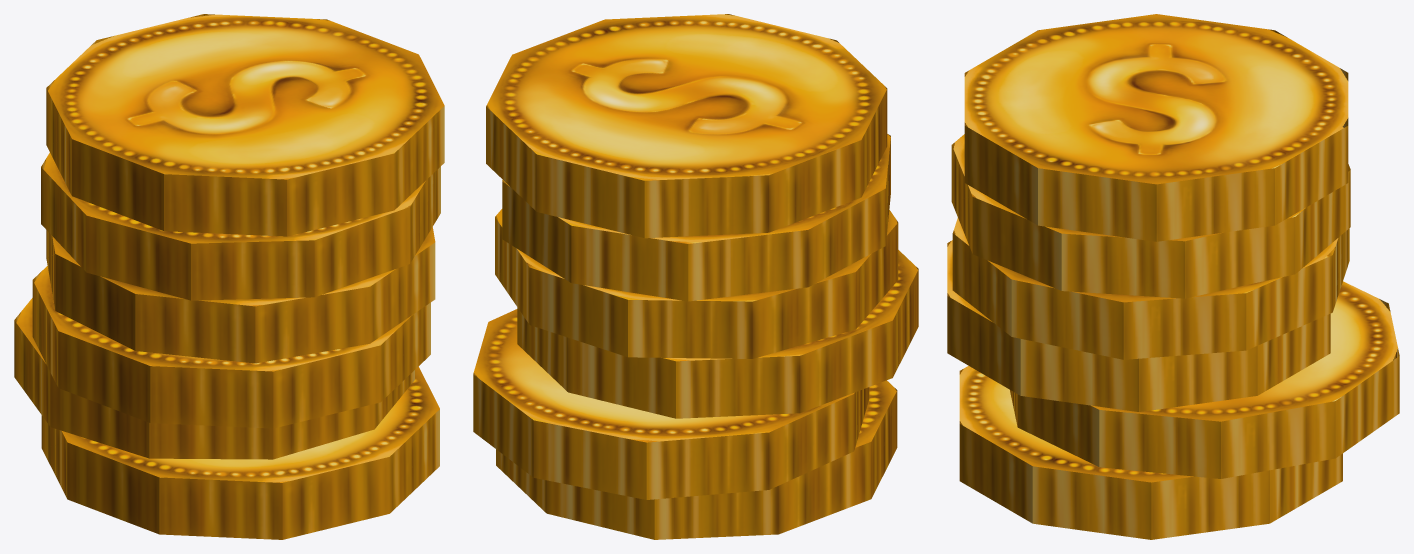
File: coin_012.fbx
3 views of the same model, side by side, from view 1: azimuth 30°, elevation 25°; view 2: azimuth 150°, elevation 25°; view 3: azimuth 270°, elevation 25° (orthographic).
Parts seen in each view (by area): view 1: coin_012; view 2: coin_012; view 3: coin_012.
Boxes of the visible parts, left/top/right/bottom form: coin_012: left=14, top=14, right=444, bottom=539; coin_012: left=473, top=14, right=918, bottom=539; coin_012: left=947, top=14, right=1399, bottom=539.
Size of the model in its own units: 4.53 by 4.18 by 4.77.
